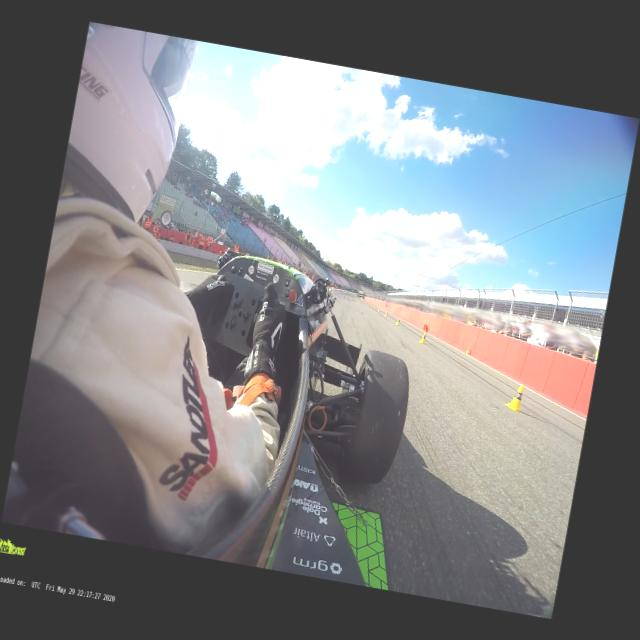yellow_cone: (504, 382, 526, 412), (418, 330, 426, 344), (394, 317, 400, 325), (465, 345, 470, 354), (383, 310, 388, 316), (377, 307, 380, 312), (370, 302, 372, 306), (368, 302, 370, 306), (373, 304, 375, 308)
